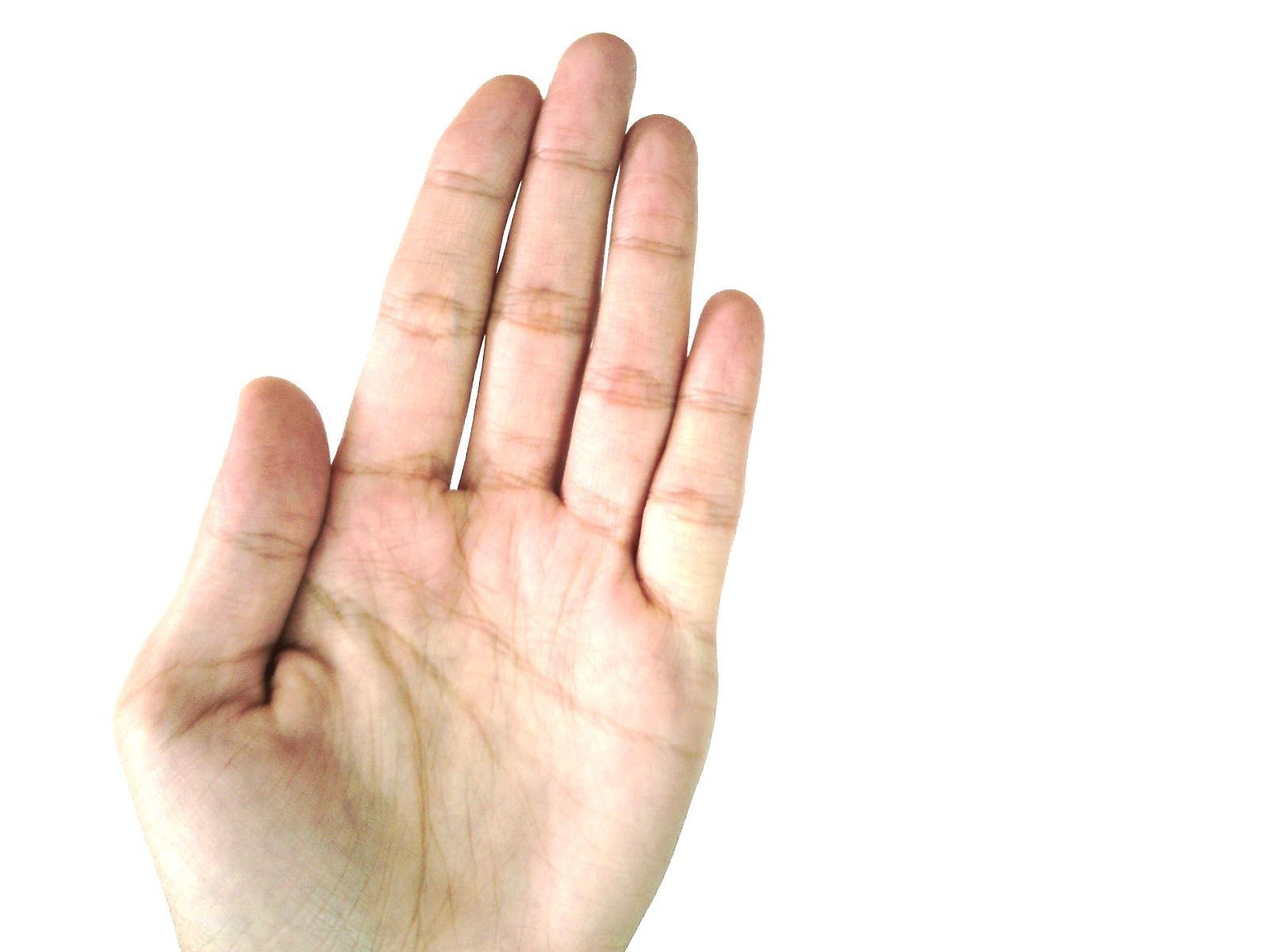open_palm: (112, 31, 769, 951)
